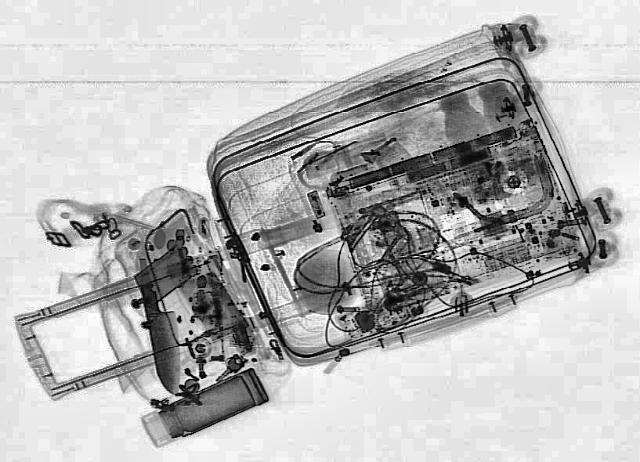Knife: (128, 255, 196, 395)
